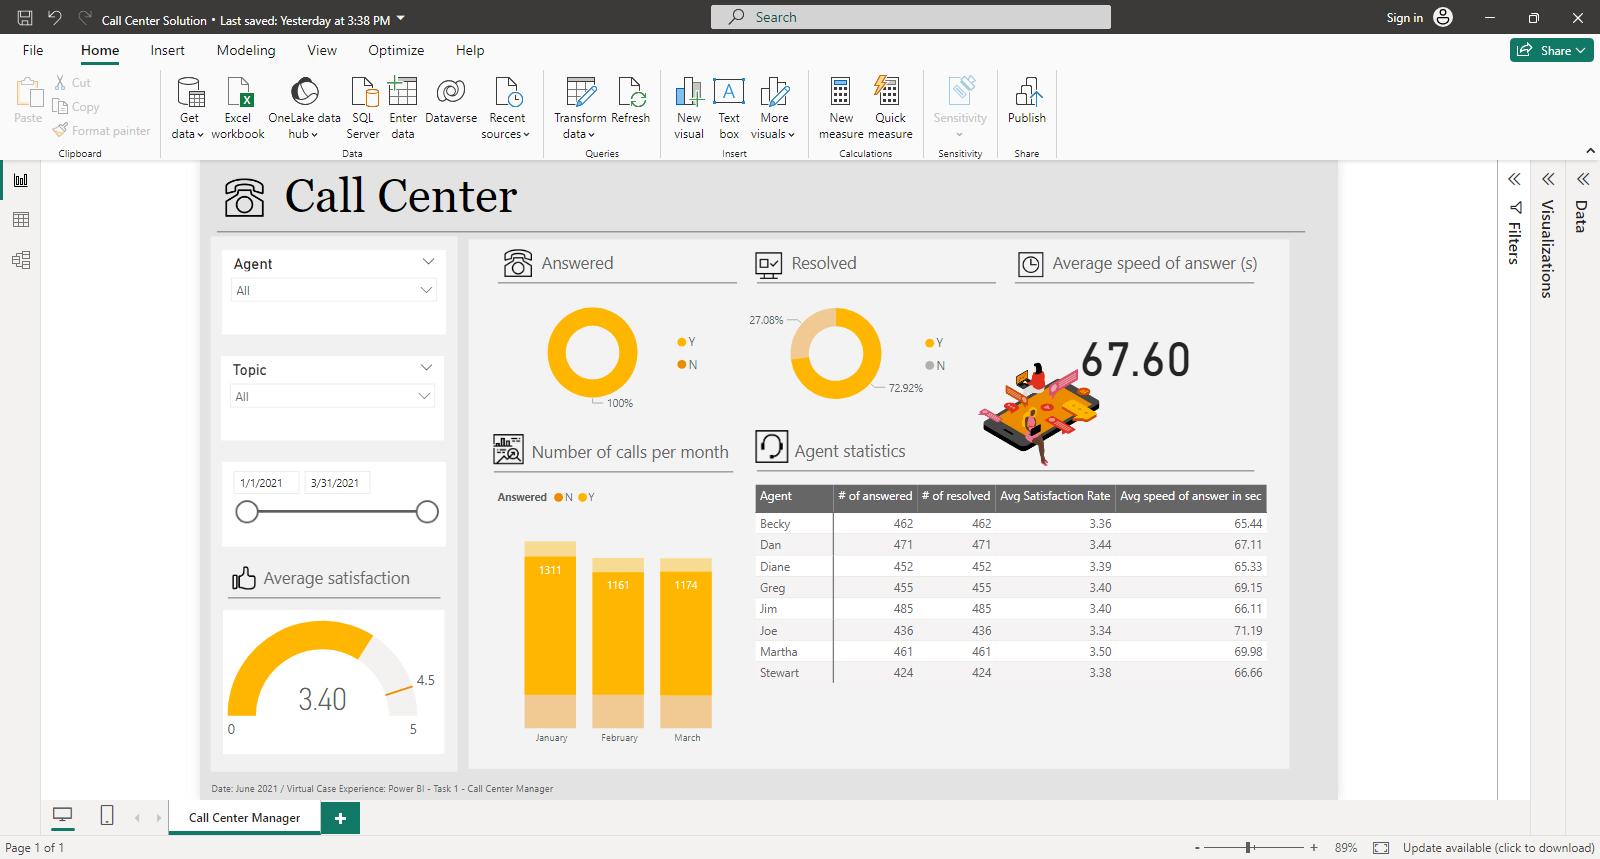

This screenshot's page, from the dashboard's own definition file:
{"tool":"powerbi","page":{"name":"Call Center Manager","canvas":[1280,720],"ordinal":0},"visuals":[{"type":"textbox","box":[89.7,4.8,1172,75.2],"z":0},{"type":"basicShape","box":[9,61,1244.3,40.1],"z":1000},{"type":"basicShape","box":[8.7,80.1,283.6,614.4],"z":2000},{"type":"basicShape","box":[292.6,83.8,942.7,607.6],"z":3000},{"type":"image","box":[1129,0,151,94.5],"z":4000},{"type":"image","box":[24.1,7.7,53.1,68.5],"z":5000},{"type":"columnChart","fields":{"Category":["Call Center.Date.Variation.Date Hierarchy.Month"],"Y":["Call Center.Call Id"],"Series":["Call Center.Answered (Y/N)"]},"box":[329.5,359.7,284.8,308.3],"z":6000},{"type":"slicer","fields":{"Values":["Call Center.Date"]},"box":[24.6,339.5,252.4,94.9],"z":7000},{"type":"pivotTable","fields":{"Rows":["Call Center.Agent"],"Values":["Call Center.# of answered","Call Center.# of resolved","Call Center.Satisfaction rating","Call Center.Speed of answer in seconds"]},"box":[619.9,359.7,607.6,279.2],"z":8000},{"type":"slicer","fields":{"Values":["Call Center.Agent"]},"box":[24.6,101.6,252.4,95],"z":9000},{"type":"slicer","fields":{"Values":["Call Center.Topic"]},"box":[23.5,220.6,251.3,94.9],"z":10000},{"type":"donutChart","fields":{"Category":["Call Center.Resolved"],"Y":["Call Center.Resolved"]},"box":[611,143,242.4,149.7],"z":11000},{"type":"gauge","fields":{"Y":["Call Center.Satisfaction rating"],"MaxValue":["Call Center.Satisfaction rating"],"TargetValue":["Call Center.Target Value Satisfaction"]},"box":[25.7,506,249.1,162],"z":12000},{"type":"image","box":[31.1,452.4,35.7,35.7],"z":13000},{"type":"textbox","box":[66.8,452.4,188.1,35.7],"z":14000},{"type":"basicShape","box":[21.2,472.5,259.1,40.2],"z":15000},{"type":"donutChart","fields":{"Category":["Call Center.Answered (Y/N)"],"Y":["Call Center.Answered (Y/N)"]},"box":[341.8,141.8,232.3,149.7],"z":16000},{"type":"textbox","box":[378.6,98.3,172,35.7],"z":17000},{"type":"textbox","box":[660.1,98.3,183.2,35.7],"z":18000},{"type":"card","fields":{"Values":["Call Center.Speed of answer in seconds"]},"box":[953.9,148.6,196.6,136.3],"z":19000},{"type":"basicShape","box":[906.9,118.4,289.3,40.2],"z":20000},{"type":"textbox","box":[953.9,98.3,250.2,35.7],"z":21000},{"type":"basicShape","box":[325,118.4,289,40.2],"z":22000},{"type":"basicShape","box":[616,118.4,289,40.2],"z":23000},{"type":"image","box":[915.9,88.2,38,59.2],"z":24000},{"type":"image","box":[337.3,94.9,41.3,43.6],"z":25000},{"type":"image","box":[619.9,88.2,40.2,61.4],"z":26000},{"type":"textbox","box":[367.4,310.5,250.2,35.7],"z":27000},{"type":"basicShape","box":[320.5,330.6,289.3,40.2],"z":28000},{"type":"textbox","box":[663.4,309.3,250.2,35.7],"z":29000},{"type":"basicShape","box":[616.5,329.5,579.7,40.2],"z":30000},{"type":"image","box":[619.9,294.9,46.9,55.8],"z":31000},{"type":"image","box":[325,290.4,43.6,69.2],"z":32000},{"type":"image","box":[800.6,197.7,278.8,187.1],"z":33000},{"type":"textbox","box":[7.7,691.6,403.2,28],"z":34000}]}

Visuals, with their boxes on the page's 1280x720 design canvas (x1, y1, x2, y2). These are canvas units, not pixel positions in the 1600x859 screenshot, which may show the page scaled, cropped or inside an application window:
textbox: [90,5,1262,80]
basicShape: [9,61,1253,101]
basicShape: [9,80,292,694]
basicShape: [293,84,1235,691]
image: [1129,0,1280,94]
image: [24,8,77,76]
columnChart - Call Center.Date.Variation.Date Hierarchy.Month x Call Center.Call Id: [330,360,614,668]
slicer - Call Center.Date: [25,340,277,434]
pivotTable - Call Center.Agent x Call Center.# of answered: [620,360,1228,639]
slicer - Call Center.Agent: [25,102,277,197]
slicer - Call Center.Topic: [24,221,275,316]
donutChart - Call Center.Resolved x Call Center.Resolved: [611,143,853,293]
gauge - Call Center.Satisfaction rating x Call Center.Satisfaction rating: [26,506,275,668]
image: [31,452,67,488]
textbox: [67,452,255,488]
basicShape: [21,472,280,513]
donutChart - Call Center.Answered (Y/N) x Call Center.Answered (Y/N): [342,142,574,292]
textbox: [379,98,551,134]
textbox: [660,98,843,134]
card - Call Center.Speed of answer in seconds: [954,149,1150,285]
basicShape: [907,118,1196,159]
textbox: [954,98,1204,134]
basicShape: [325,118,614,159]
basicShape: [616,118,905,159]
image: [916,88,954,147]
image: [337,95,379,138]
image: [620,88,660,150]
textbox: [367,310,618,346]
basicShape: [320,331,610,371]
textbox: [663,309,914,345]
basicShape: [616,330,1196,370]
image: [620,295,667,351]
image: [325,290,369,360]
image: [801,198,1079,385]
textbox: [8,692,411,720]
